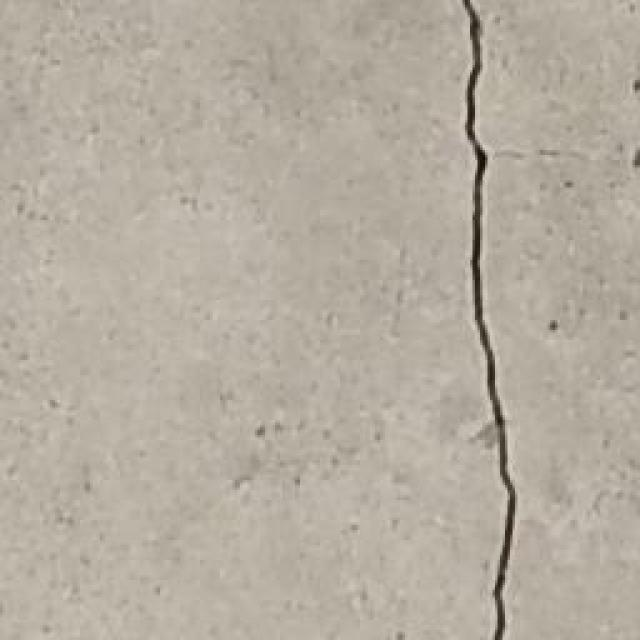concrete-crack: (462, 0, 518, 640)
